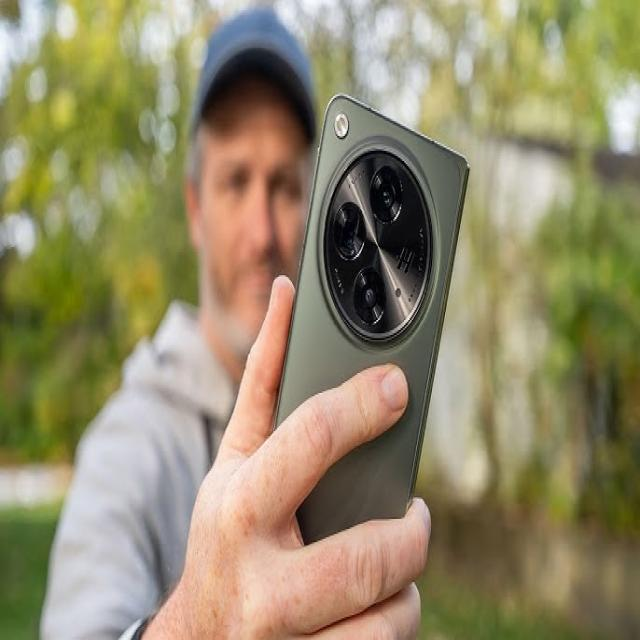mobile_phone: (269, 83, 473, 587)
